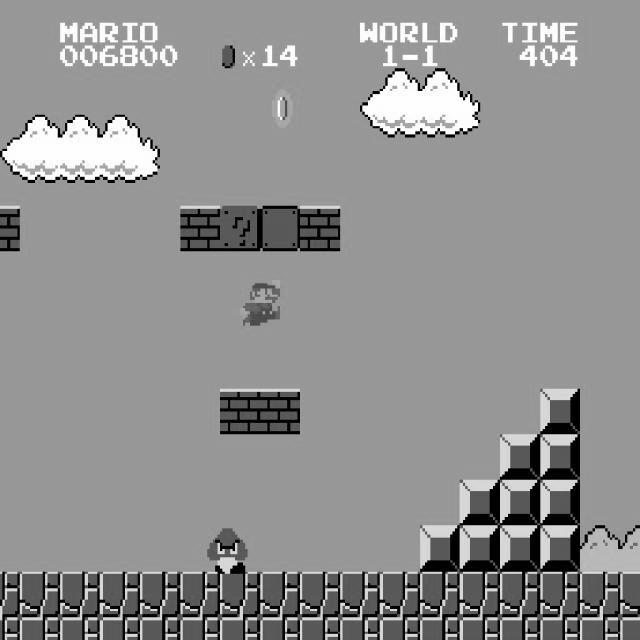1- brick_block: (220, 388, 260, 434), (260, 388, 300, 434), (180, 206, 220, 251), (300, 206, 340, 251), (0, 206, 20, 251)
11- little_mario: (237, 278, 280, 326)
13- mystery_block: (220, 206, 260, 251)
17- undestructible_block: (20, 572, 60, 618), (60, 572, 100, 618), (100, 572, 140, 618), (140, 572, 180, 618), (180, 572, 220, 618), (220, 572, 260, 618), (260, 572, 300, 618), (300, 572, 340, 618), (340, 572, 380, 618), (380, 572, 420, 618), (420, 572, 460, 618), (460, 572, 500, 618), (500, 572, 540, 618), (540, 572, 580, 618), (580, 572, 620, 618), (0, 572, 20, 618), (620, 572, 640, 618), (20, 617, 60, 640), (60, 617, 100, 640), (100, 617, 140, 640), (140, 617, 180, 640), (180, 617, 220, 640), (220, 617, 260, 640), (260, 617, 300, 640), (300, 617, 340, 640), (340, 617, 380, 640), (380, 617, 420, 640), (420, 617, 460, 640), (460, 617, 500, 640), (500, 617, 540, 640), (540, 617, 580, 640), (580, 617, 620, 640), (0, 617, 20, 640), (620, 617, 640, 640)
3- empty_block: (260, 206, 300, 251)
8- goomba: (205, 526, 248, 574)
9- hard_block: (420, 526, 460, 572), (460, 480, 500, 526), (460, 526, 500, 572), (500, 434, 540, 480), (500, 480, 540, 526), (500, 526, 540, 572), (540, 388, 580, 434), (540, 434, 580, 480), (540, 480, 580, 526), (540, 526, 580, 572)
